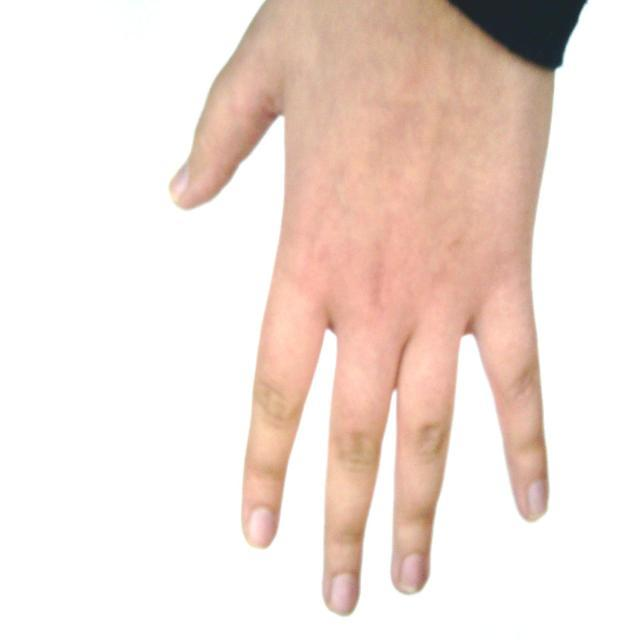Fingernail: (330, 575, 357, 615), (249, 509, 275, 547), (399, 554, 424, 593), (528, 482, 547, 520), (170, 165, 187, 200)
